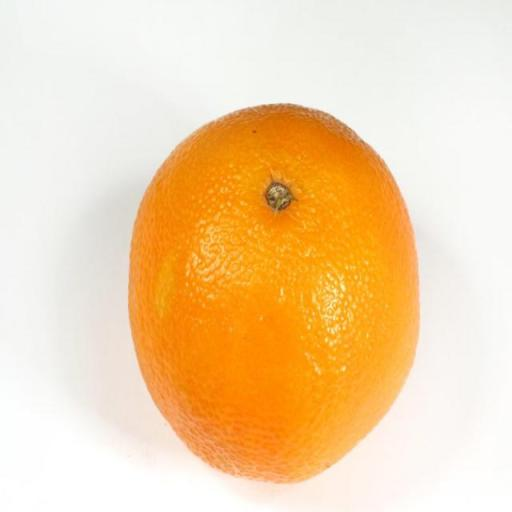fruit: (130, 105, 418, 482)
